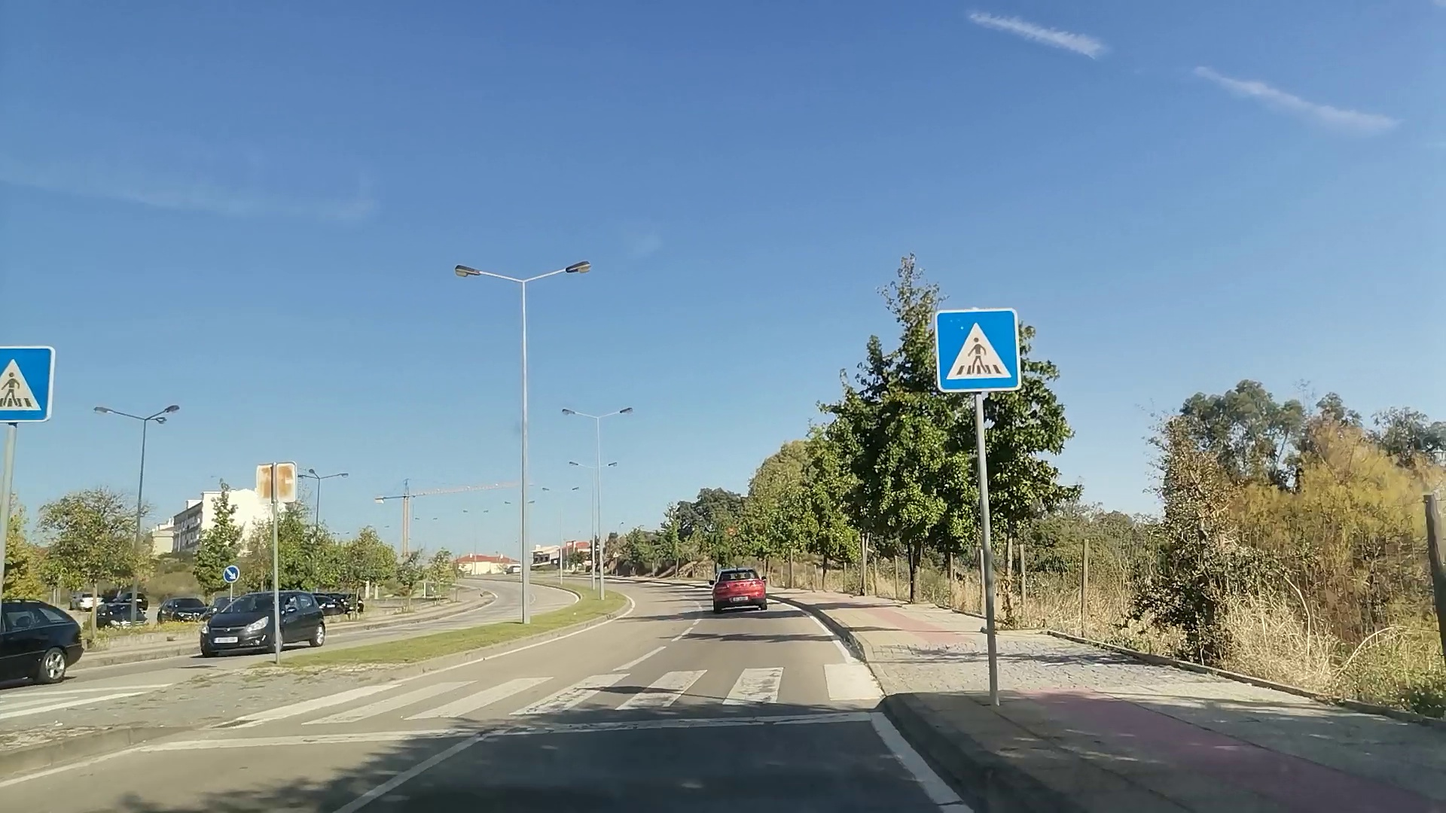Stairs: (252, 666, 892, 740)
